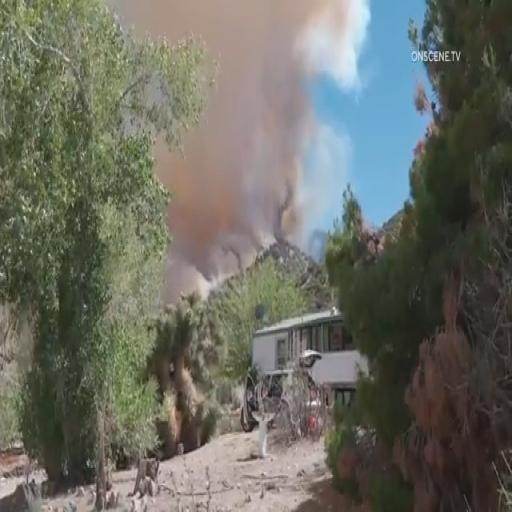smoke: (239, 40, 348, 181)
